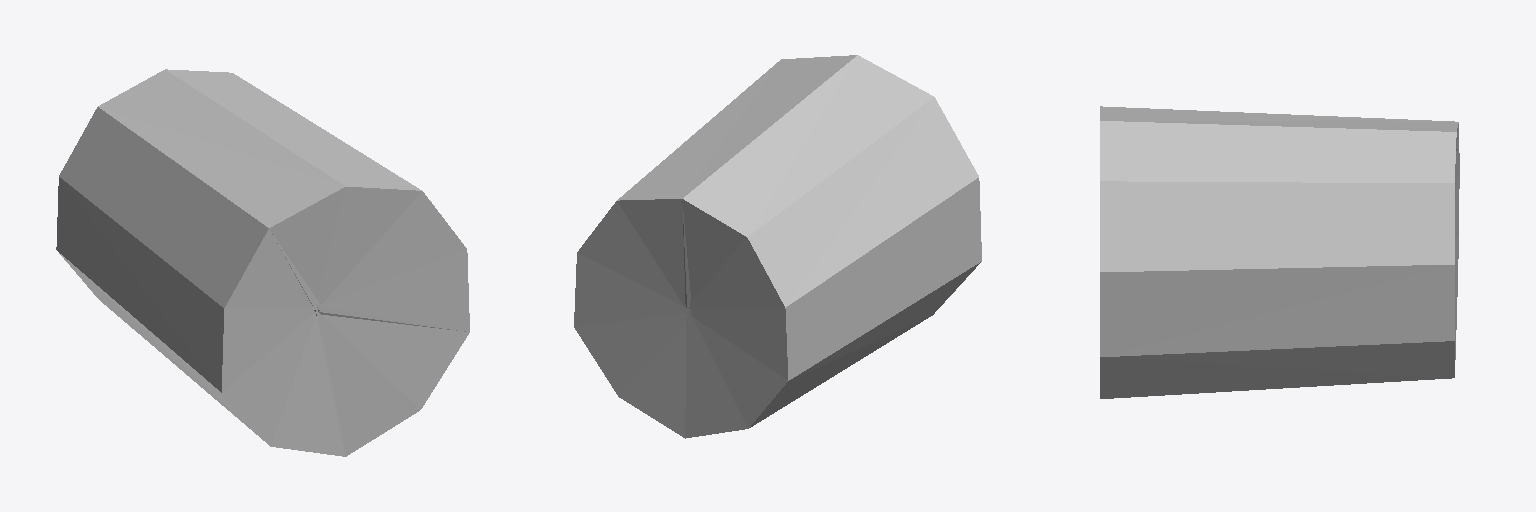
File: TreeTrunk1-90.obj
3 renders of one model, left to right at view 1: azimuth 30°, elevation 25°; view 2: azimuth 150°, elevation 25°; view 3: azimuth 270°, elevation 25°, orthographic.
Parts seen in each view (by area): view 1: Tree; view 2: Tree; view 3: Tree.
Boxes of the visible parts, box(x1,y1,x2,y2) form: Tree: box(56, 69, 469, 456); Tree: box(574, 55, 981, 438); Tree: box(1100, 106, 1459, 398).
Bounding box in the file's own units: 0.3779 × 0.3929 × 0.4733.